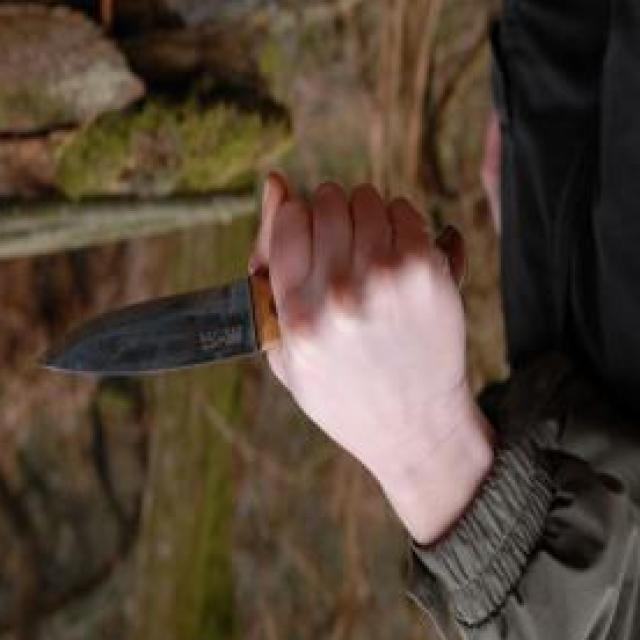knife: (19, 175, 396, 404)
